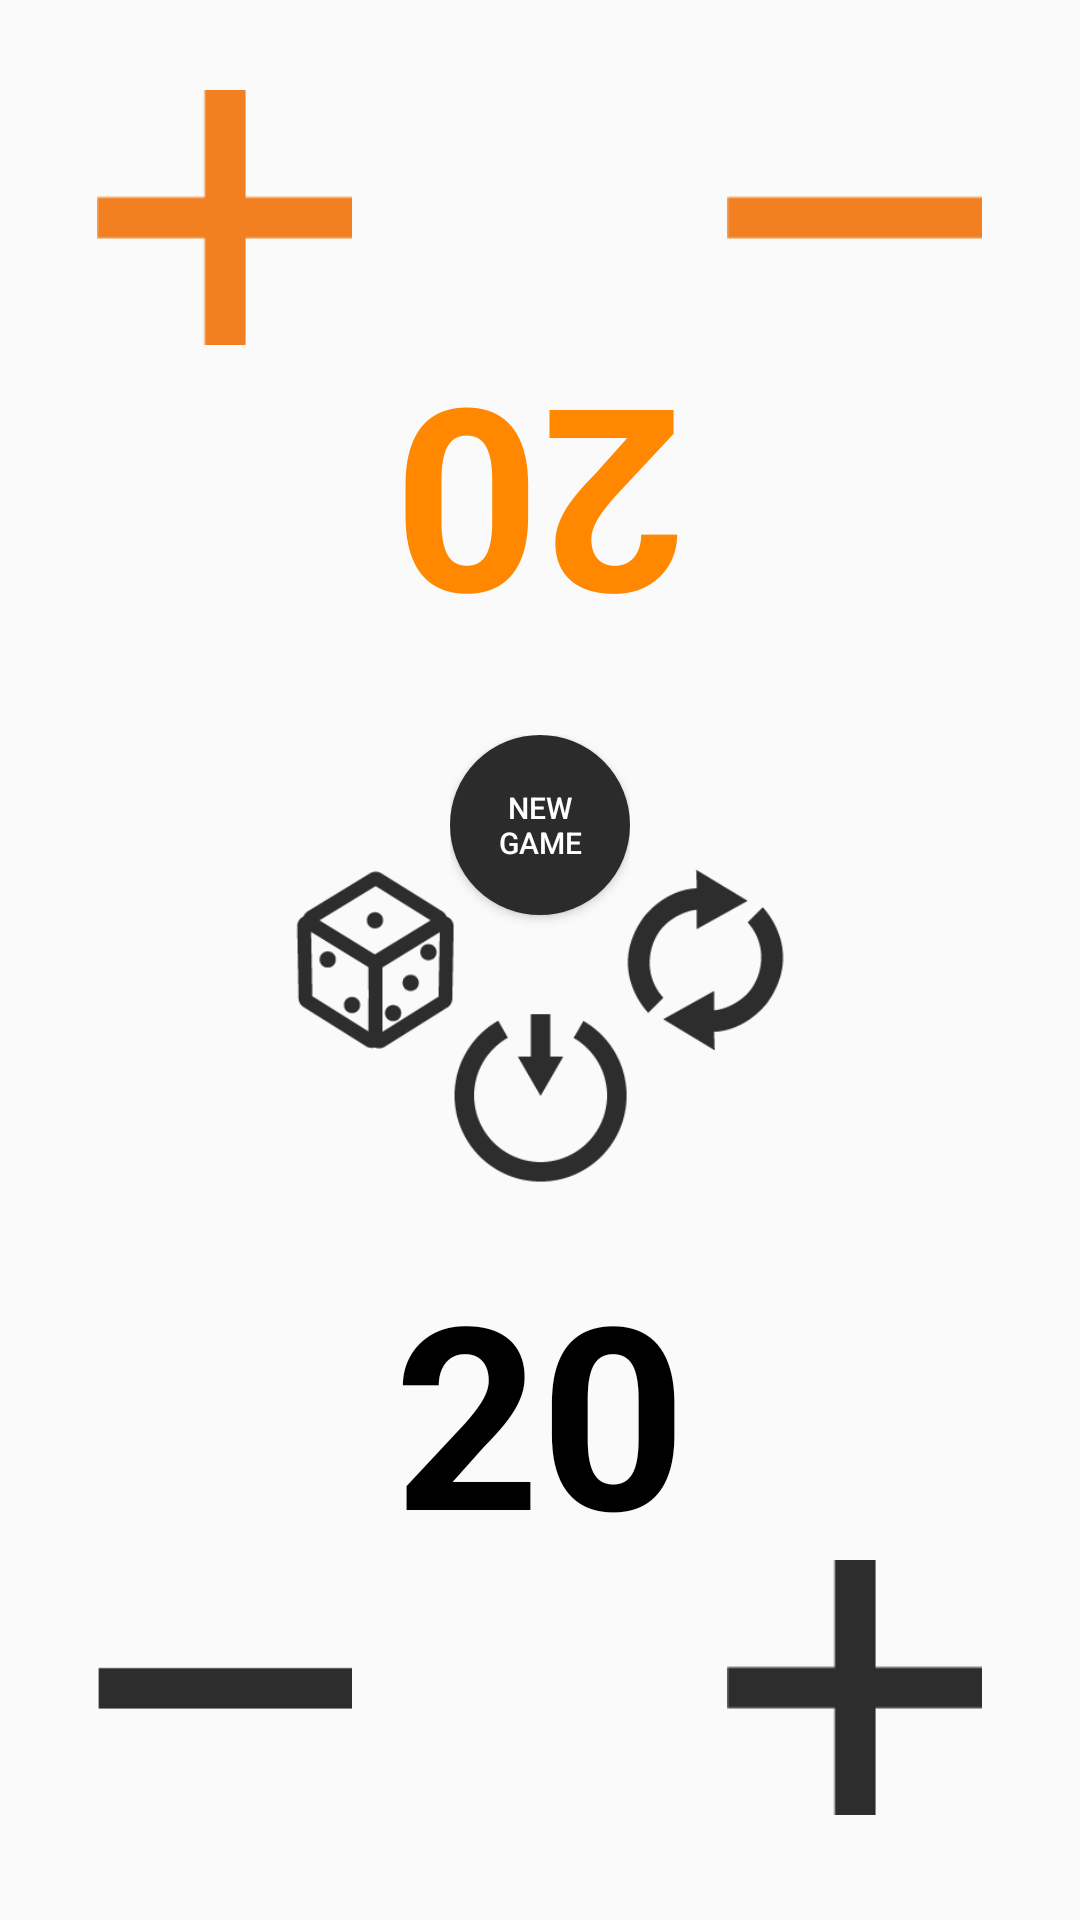

Named icons in this screenshot (1080x1920) and their centers, point (x, y):
greyplus: point (854, 1687)
orangeminus: point (854, 217)
orangeplus: point (224, 217)
renew: point (705, 960)
